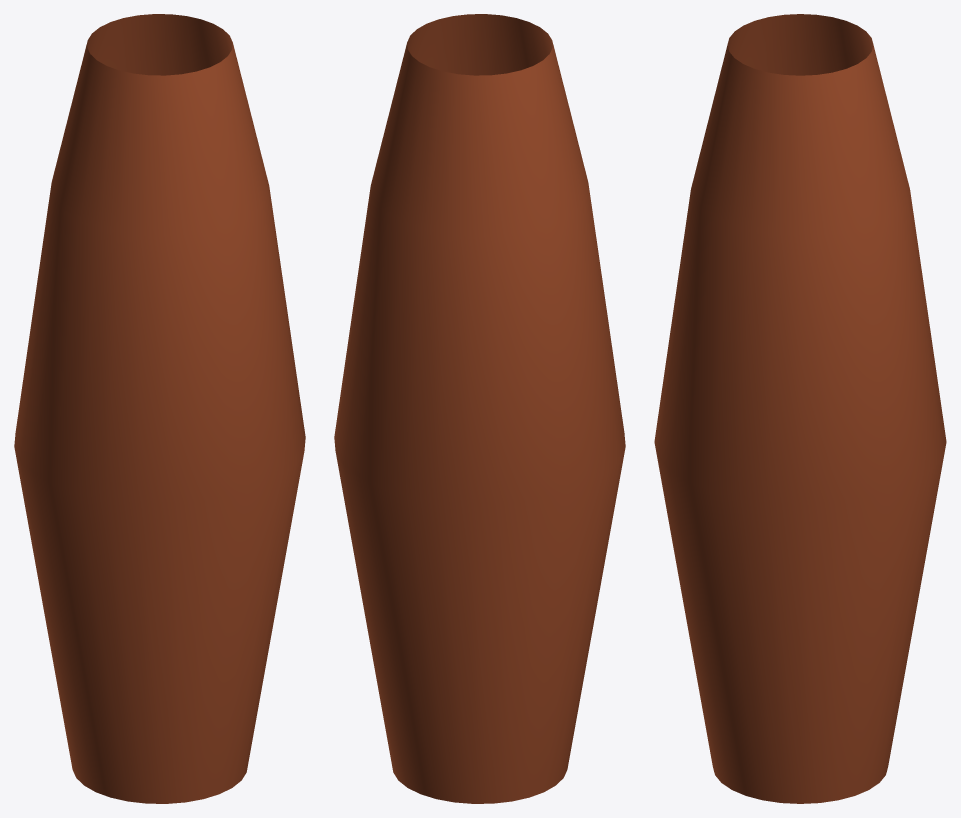
File: SAB-VAS-tall.glb
3 renders of one model, left to right at view 1: azimuth 30°, elevation 25°; view 2: azimuth 150°, elevation 25°; view 3: azimuth 270°, elevation 25°, orthographic.
Visible parts, largest first — view 1: SAB-VAS-tall; view 2: SAB-VAS-tall; view 3: SAB-VAS-tall.
Boxes of the visible parts, bbox=[...] form: SAB-VAS-tall: bbox=[14, 14, 305, 803]; SAB-VAS-tall: bbox=[334, 14, 625, 803]; SAB-VAS-tall: bbox=[654, 14, 946, 803].
Bounding box in the file's own units: 0.22 × 0.6 × 0.22.
